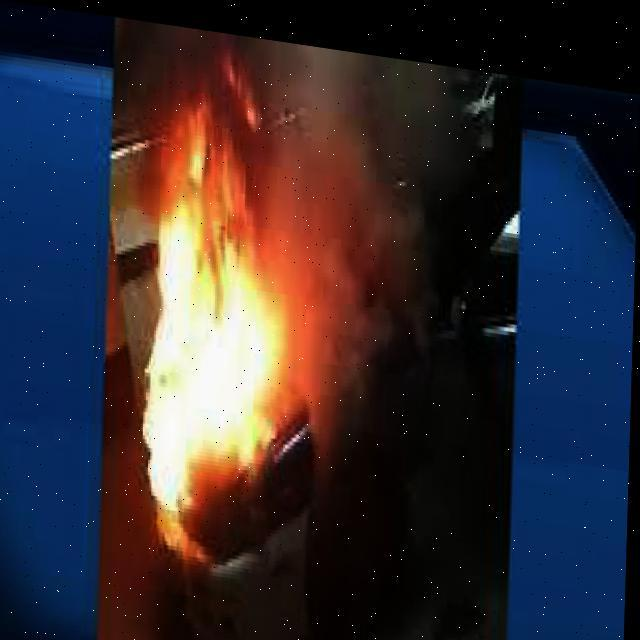Fire: (136, 148, 324, 572)
